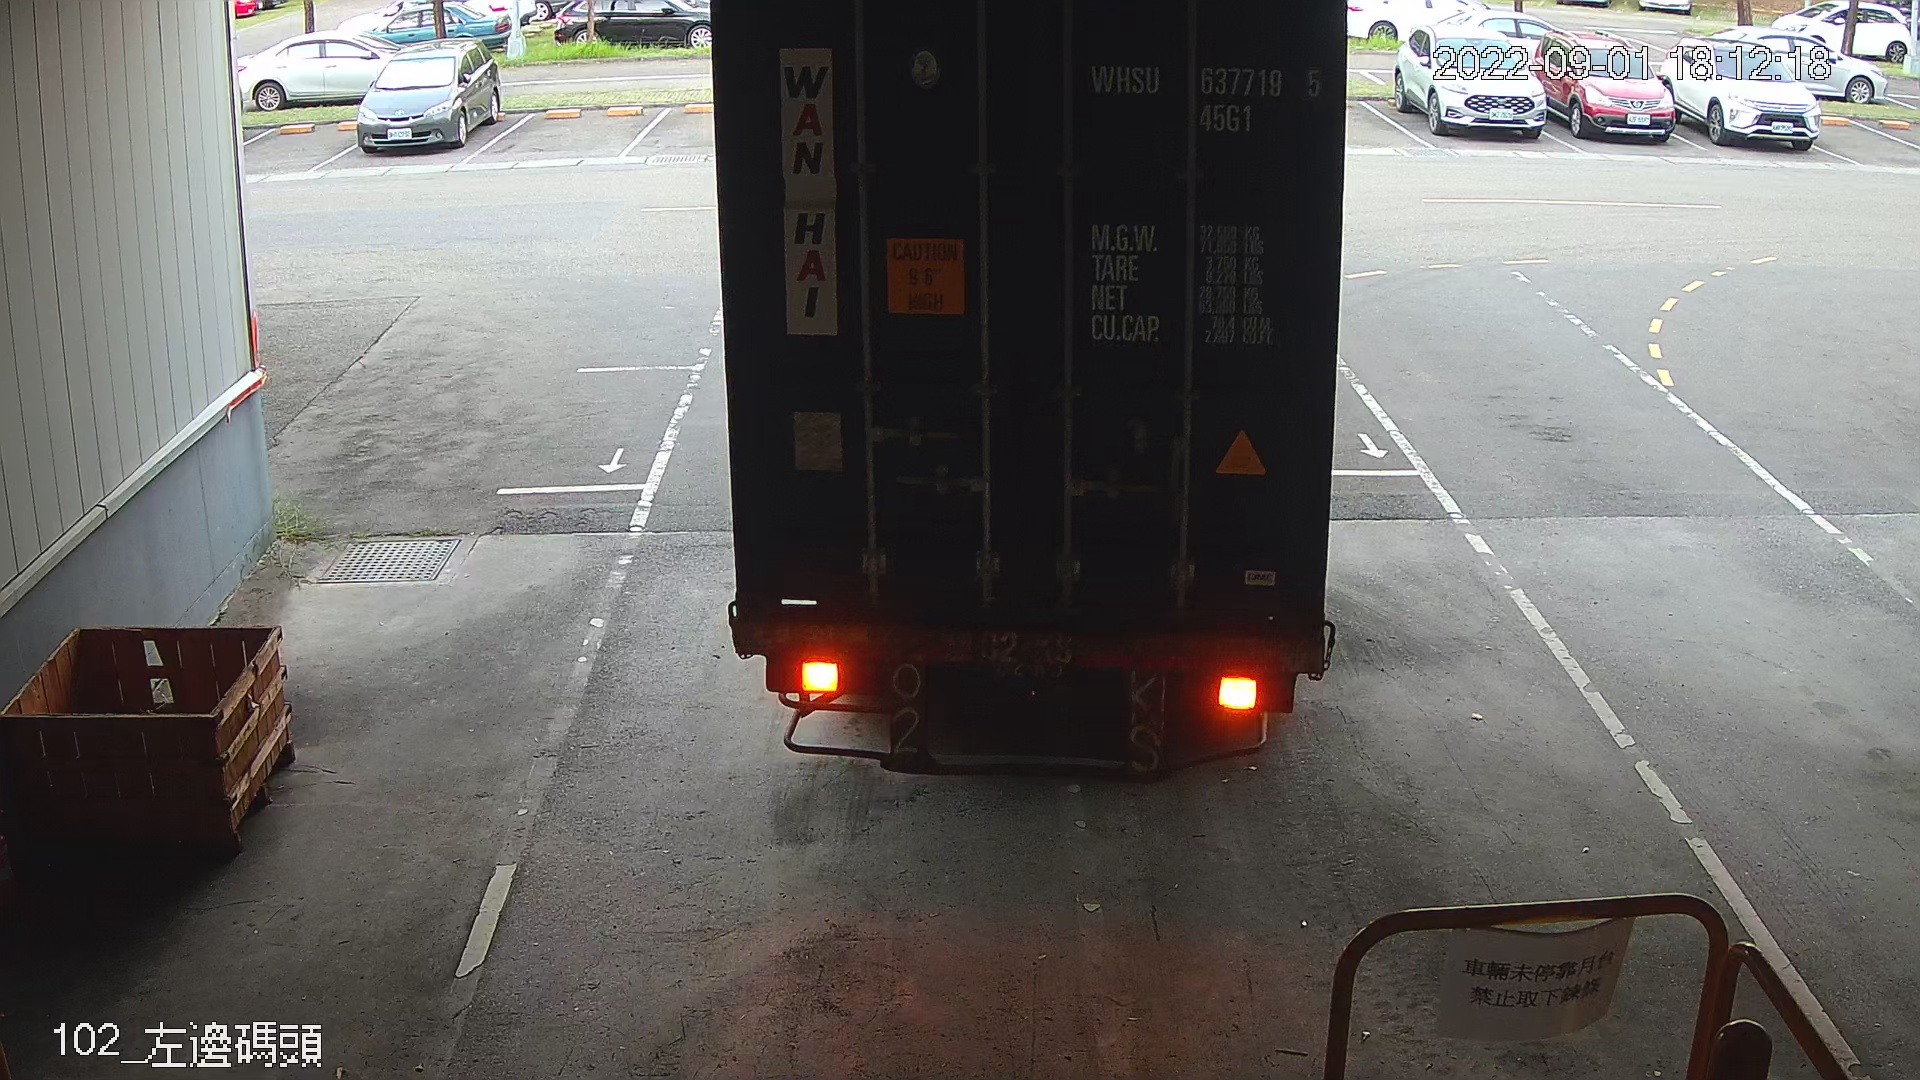container: (1083, 44, 1337, 141)
